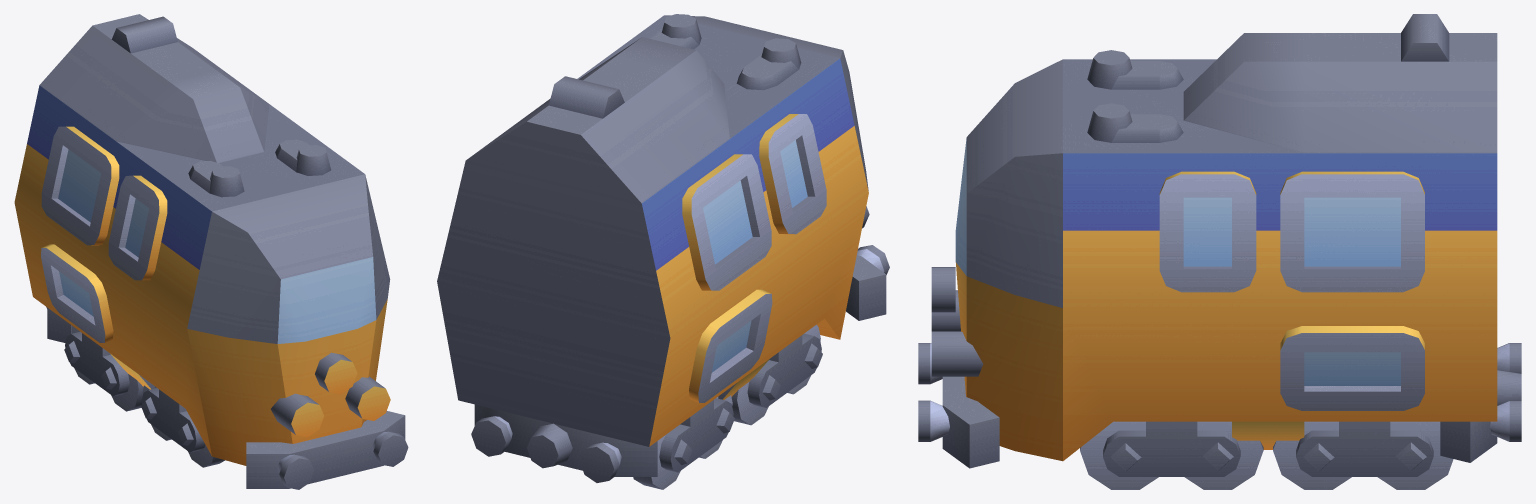
File: train-electric-double-a.glb
3 renders of one model, left to right at view 1: azimuth 30°, elevation 25°; view 2: azimuth 150°, elevation 25°; view 3: azimuth 270°, elevation 25°, orthographic. The views are drawn at different scales.
Parts seen in each view (by area): view 1: train-electric-double-a, wheels-back, wheels-front; view 2: train-electric-double-a, wheels-front, wheels-back; view 3: train-electric-double-a, wheels-front, wheels-back.
Part boxes in pixels (x1,y1,x2,y2): train-electric-double-a: (14, 14, 408, 489); wheels-back: (64, 326, 143, 411); wheels-front: (141, 385, 224, 467); train-electric-double-a: (437, 14, 889, 482); wheels-front: (731, 324, 822, 425); wheels-back: (633, 395, 734, 489); train-electric-double-a: (918, 14, 1521, 468); wheels-front: (1080, 421, 1263, 489); wheels-back: (1273, 421, 1453, 489).
Bounding box in the file's own units: 1.28 × 1.92 × 2.5.
1 material, 1 textured.
